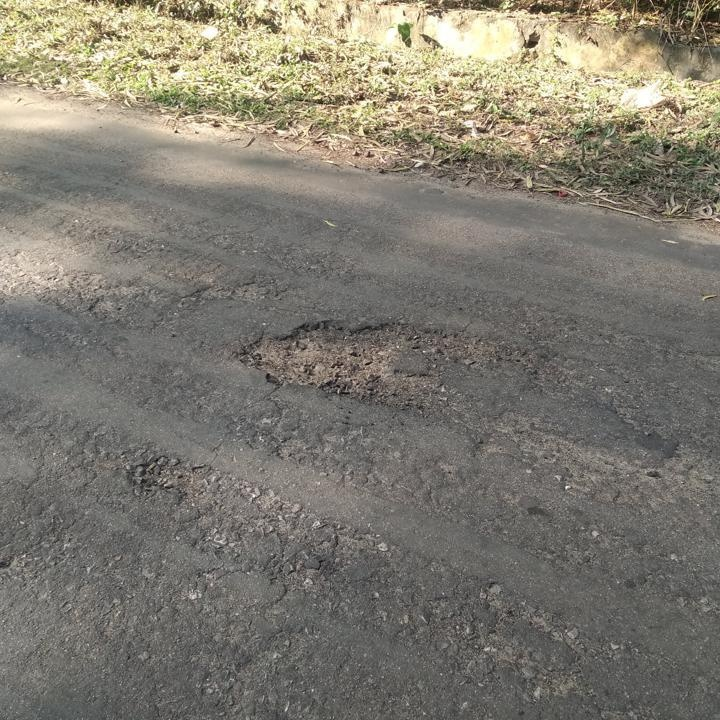pothole: (231, 313, 526, 410), (123, 452, 210, 506)
